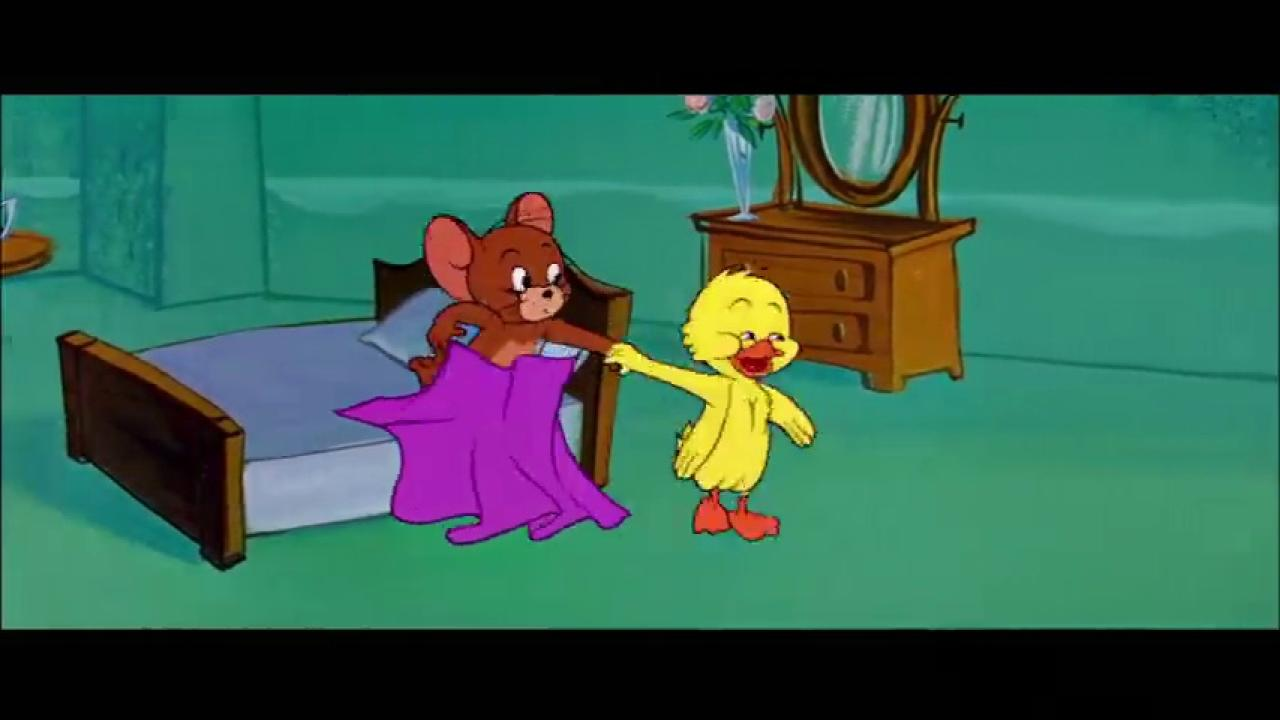Jerry: (406, 187, 620, 391)
